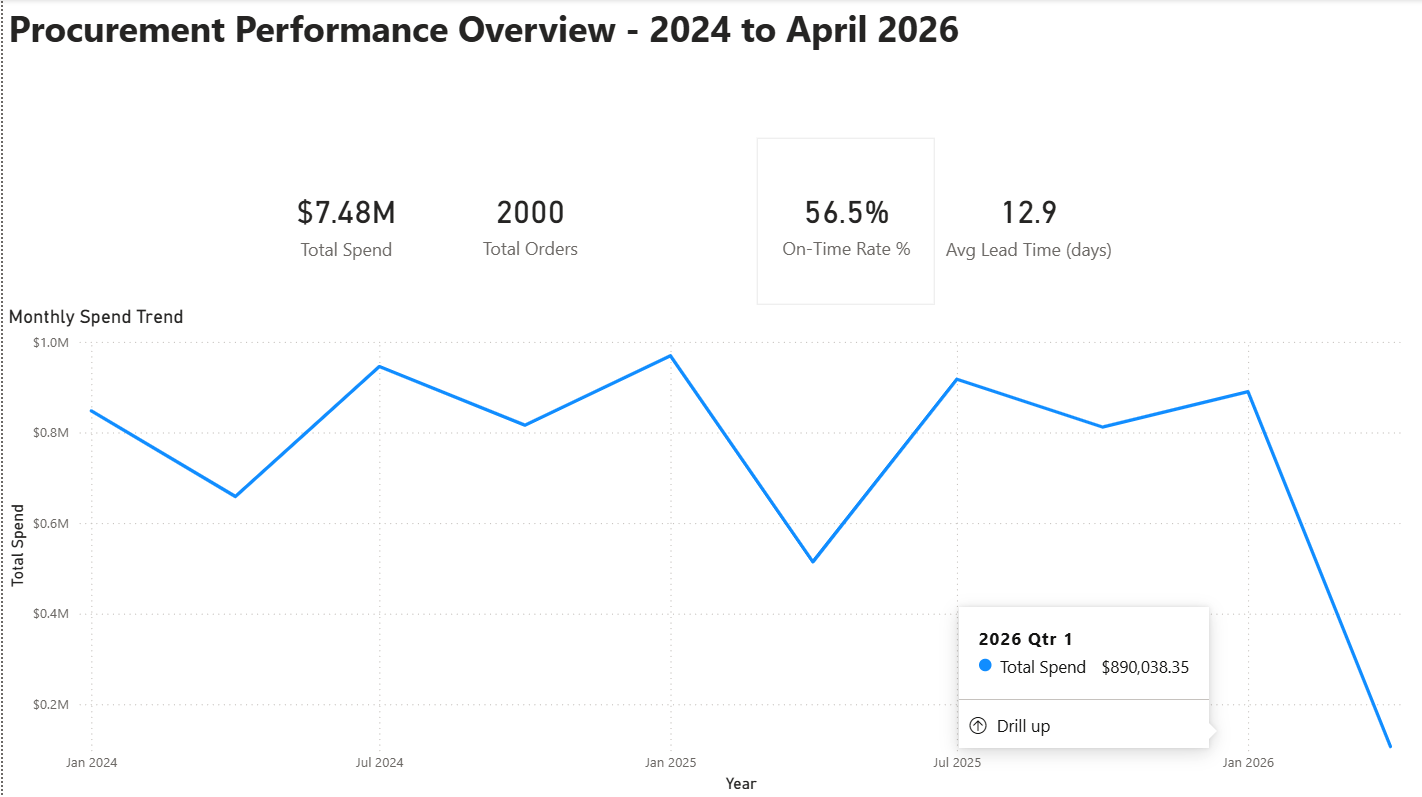

What the dashboard file says about the page in this screenshot:
{"tool":"powerbi","page":{"name":"Executive Summary","canvas":[1280,720],"ordinal":0},"visuals":[{"type":"card","fields":{"Values":["_Measures.Total Spend"]},"box":[225,126.2,168.8,149.6],"z":0},{"type":"textbox","box":[0,0,963.3,100.2],"z":1000},{"type":"card","fields":{"Values":["_Measures.Total Orders"]},"box":[393.8,124.9,164.7,150.9],"z":2000},{"type":"card","fields":{"Values":["_Measures.On-Time Rate %"]},"box":[679.2,124.9,161.9,150.9],"z":3000},{"type":"card","fields":{"Values":["_Measures.Avg Lead Time (days)"]},"box":[841.2,126.2,168.8,149.6],"z":4000},{"type":"lineChart","title":"Monthly Spend Trend","fields":{"Category":["dim_dates.date.Variation.Date Hierarchy.Year","dim_dates.date.Variation.Date Hierarchy.Quarter"],"Y":["_Measures.Total Spend"]},"box":[0,275.8,1280.3,444.6],"z":5000}]}

Visuals, with their boxes in screenshot pixels (x1, y1, x2, y2), scaled from the page's 1280x720 canvas onto the 1422x797 screenshot:
card - _Measures.Total Spend: left=250, top=140, right=437, bottom=305
textbox: left=0, top=0, right=1070, bottom=111
card - _Measures.Total Orders: left=437, top=138, right=620, bottom=305
card - _Measures.On-Time Rate %: left=755, top=138, right=934, bottom=305
card - _Measures.Avg Lead Time (days): left=935, top=140, right=1122, bottom=305
"Monthly Spend Trend" lineChart: left=0, top=305, right=1421, bottom=796
